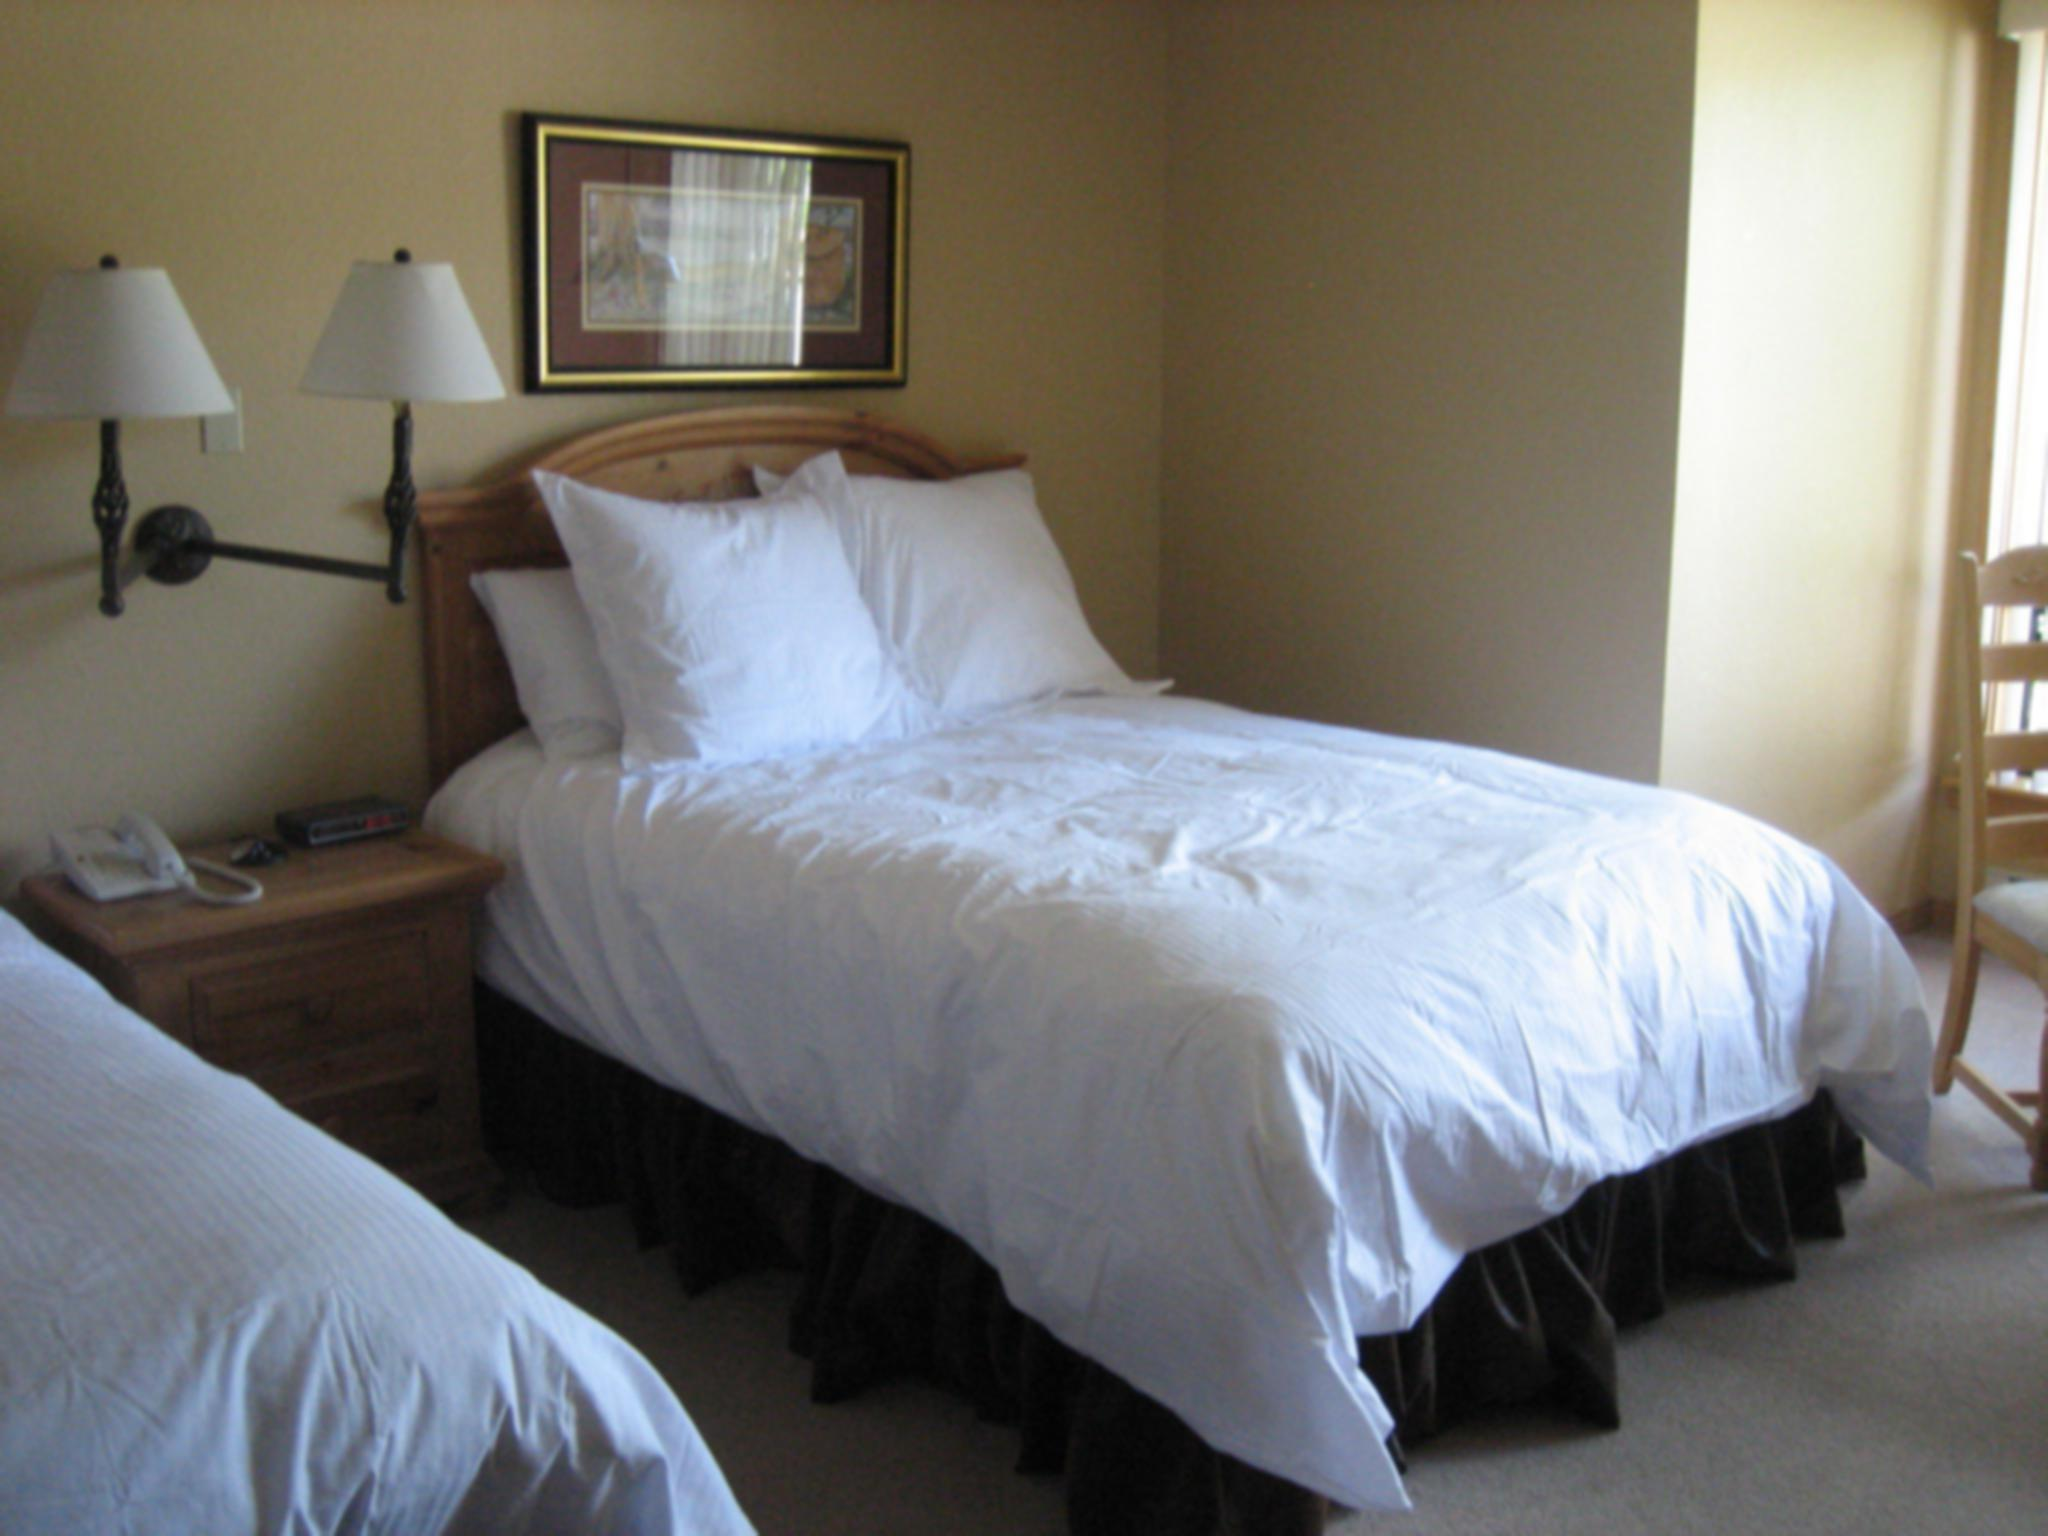Otro Obstaculo: (48, 236, 440, 670)
